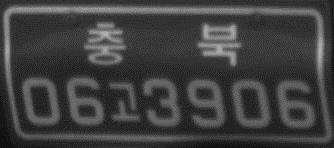0: (229, 76, 272, 130), (18, 74, 62, 126)
3: (142, 76, 181, 128)
6: (275, 78, 317, 132), (65, 75, 105, 128)
9: (186, 77, 227, 130)
고: (105, 80, 143, 124)
충북_D: (82, 20, 243, 70)
